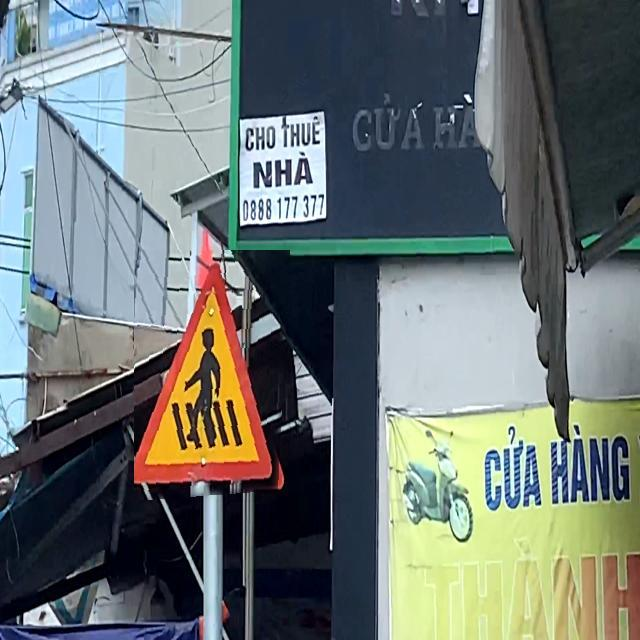W-224: (134, 251, 291, 503)
